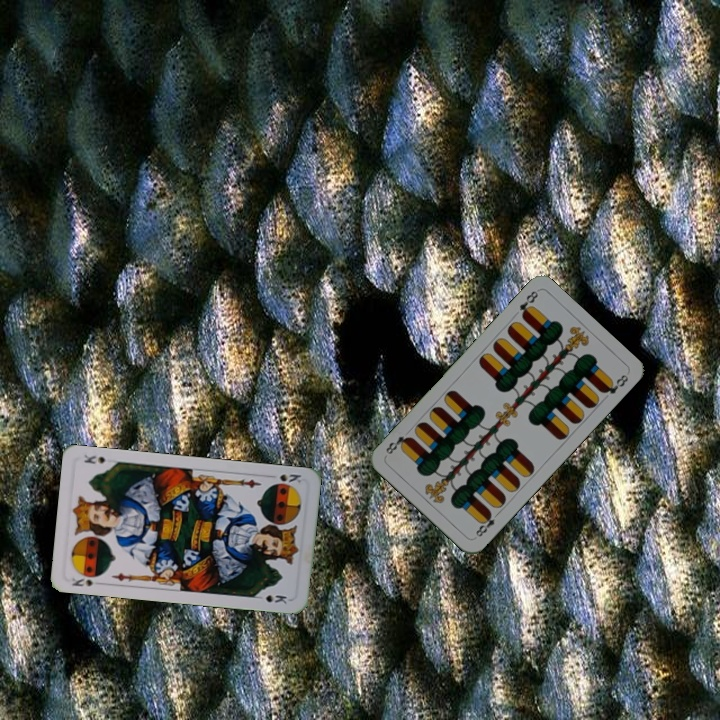E8: (471, 507, 502, 540), (515, 287, 541, 321)
SK: (68, 569, 106, 589), (276, 470, 304, 485)
